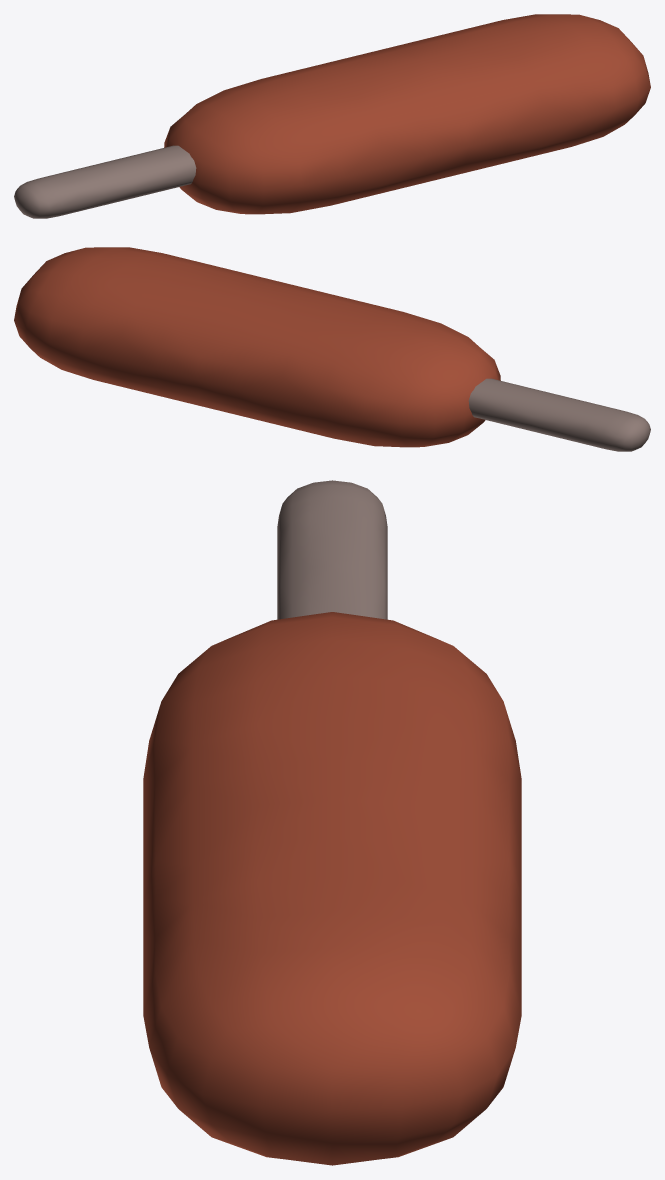
File: Sausage on the stick.fbx
3 views of the same model, one above another, from view 1: azimuth 30°, elevation 25°; view 2: azimuth 150°, elevation 25°; view 3: azimuth 270°, elevation 25° (orthographic). The views are drawn at different scales.
Visible parts, largest first — view 1: Cube; view 2: Cube; view 3: Cube.
Boxes of the visible parts, box(x1,y1,x2,y2) form: Cube: box(14, 14, 650, 218); Cube: box(14, 247, 650, 451); Cube: box(143, 480, 521, 1165).
Bounding box in the file's own units: 258 × 41.43 × 68.61.
